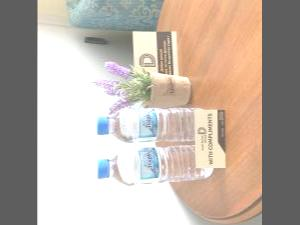bottle: (92, 138, 216, 186), (92, 105, 214, 140)
